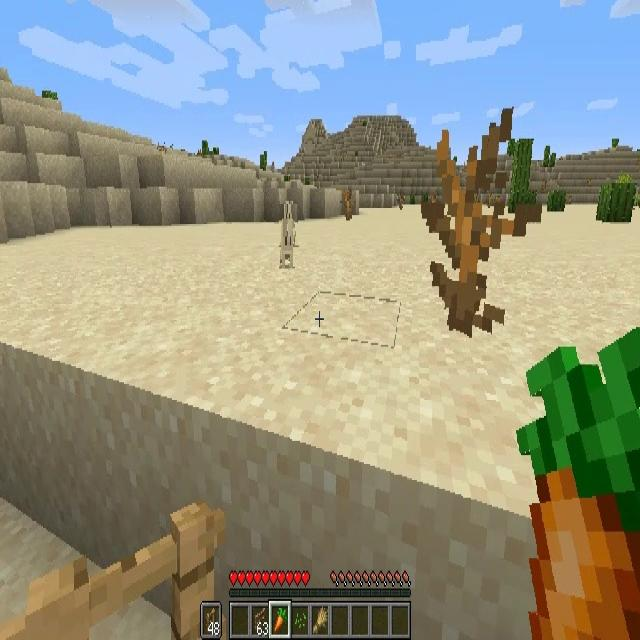rabbit: (279, 204, 298, 269)
